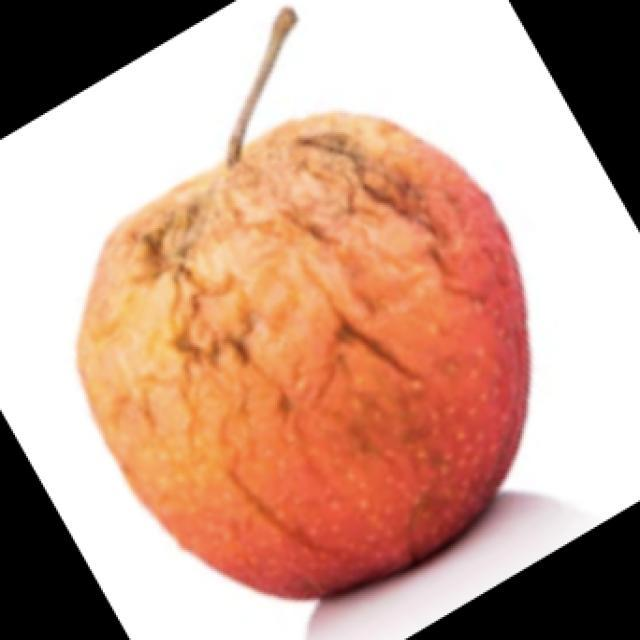Rotten: (65, 111, 528, 606)
